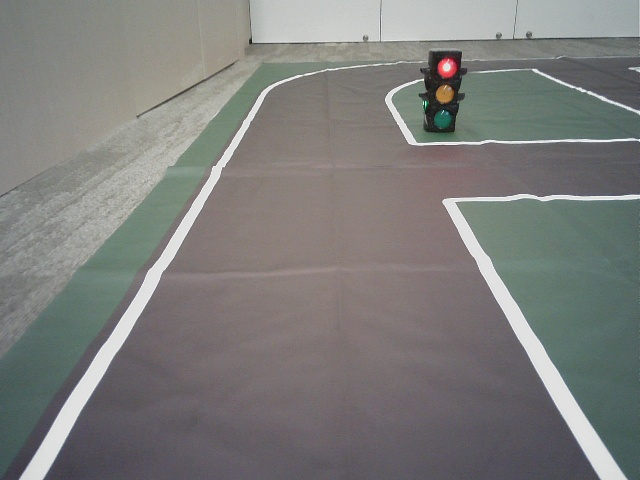red: (435, 54, 454, 126)
